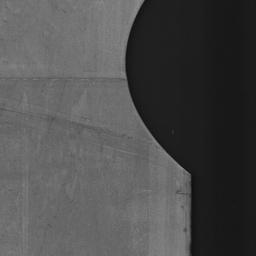Crescent gap: (125, 0, 190, 174)
